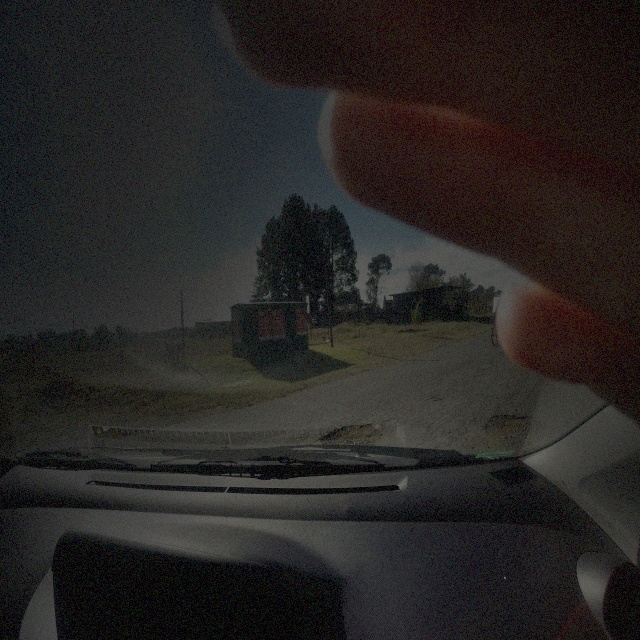pothole: (482, 412, 546, 446), (320, 418, 384, 446)
